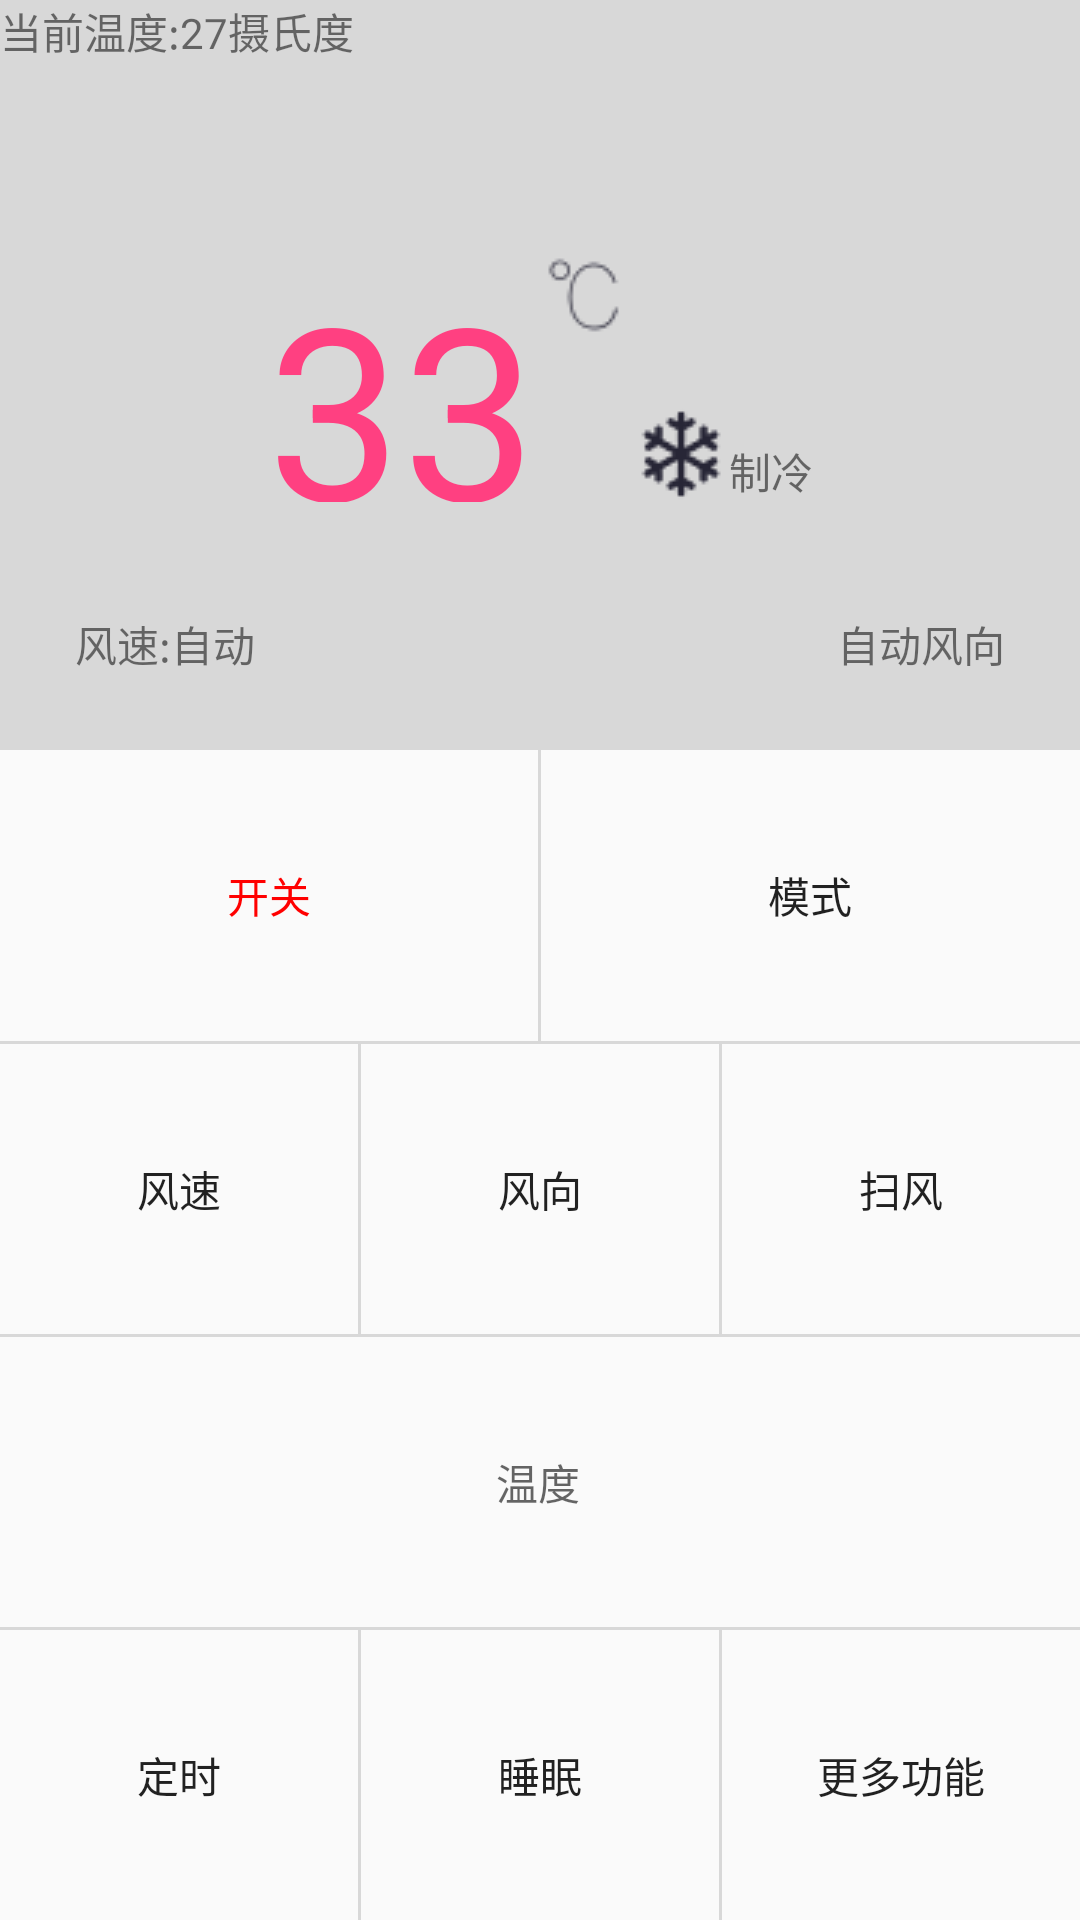

Named icons in this screenshot (1080×1920) and their bounding boxes, (x1, y1, x2, y2):
refrageretion tempereture: (642, 411, 720, 497)
